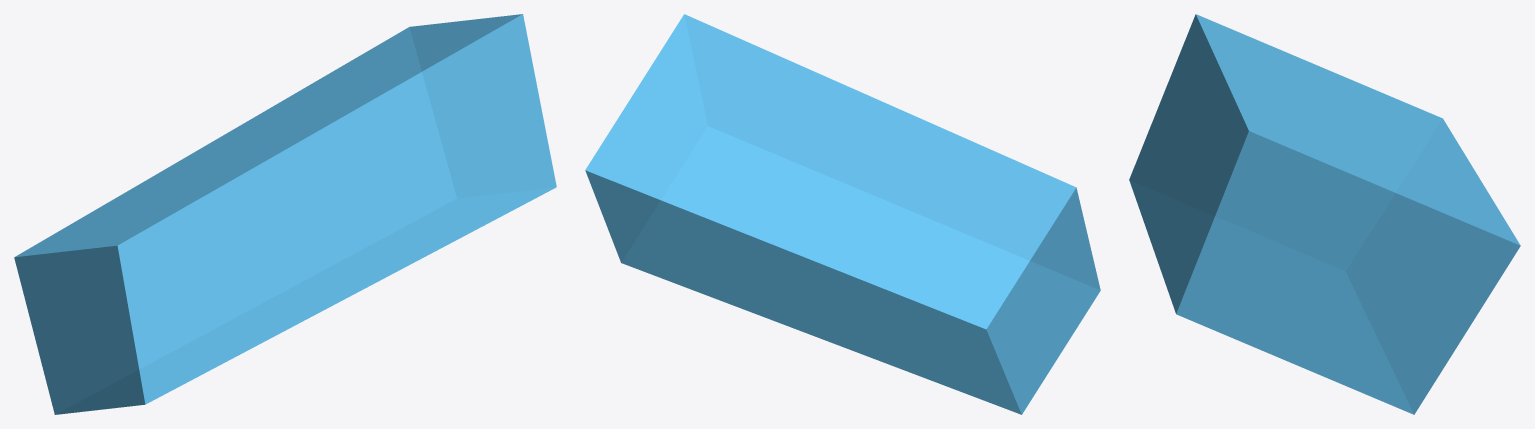
The model's file is Event_421127236_HErechit_14.fbx.
3 renders of one model, left to right at view 1: azimuth 30°, elevation 25°; view 2: azimuth 150°, elevation 25°; view 3: azimuth 270°, elevation 25°, orthographic. The views are drawn at different scales.
Visible parts, largest first — view 1: Model; view 2: Model; view 3: Model.
Boxes of the visible parts, x1=… form: Model: x1=14, y1=14, x2=556, y2=414; Model: x1=585, y1=14, x2=1100, y2=414; Model: x1=1129, y1=14, x2=1520, y2=414.
Bounding box in the file's own units: 1.02 × 0.7375 × 0.6714.
